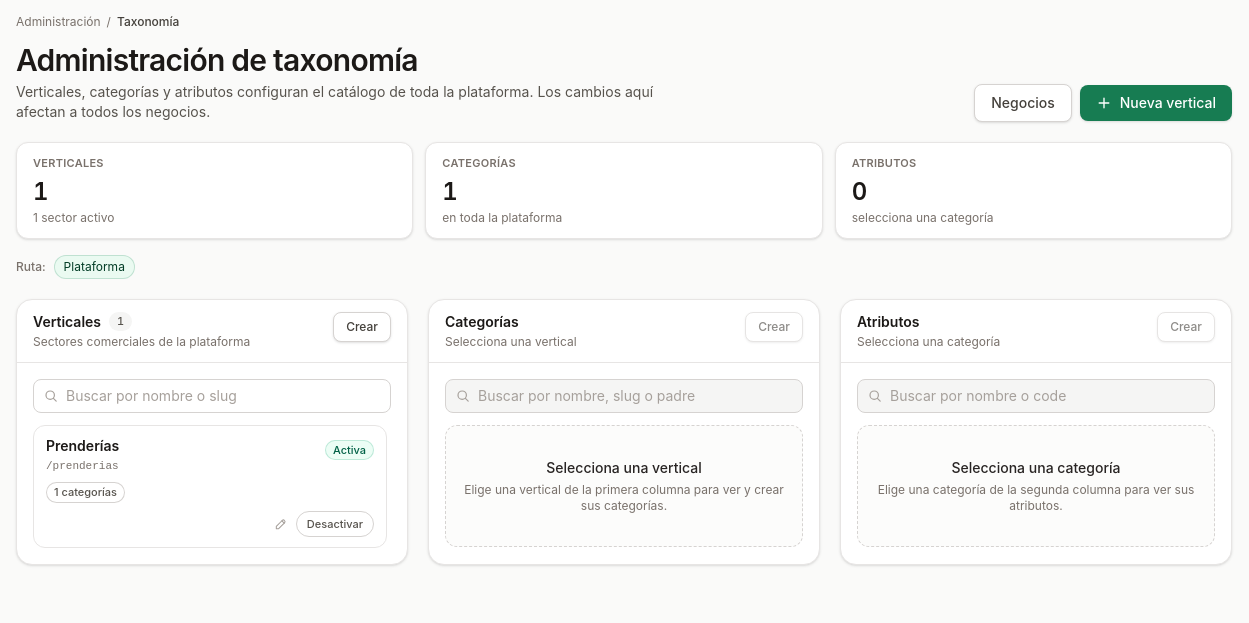
Scenario: Panel de taxonomía (UI) › navega vertical → categoría → atributos y muestra las opciones ENUM
Expected: the heading "Administración de taxonomía" is shown, top-left (16, 42), bottom-right (418, 78)
Expected: the text "Prenderías" is shown, top-left (46, 436), bottom-right (119, 456)
Click the button "Prenderías /prenderias Activa 1 categorías Desactivar" at (83, 445), box top-left (33, 424), bottom-right (387, 548)
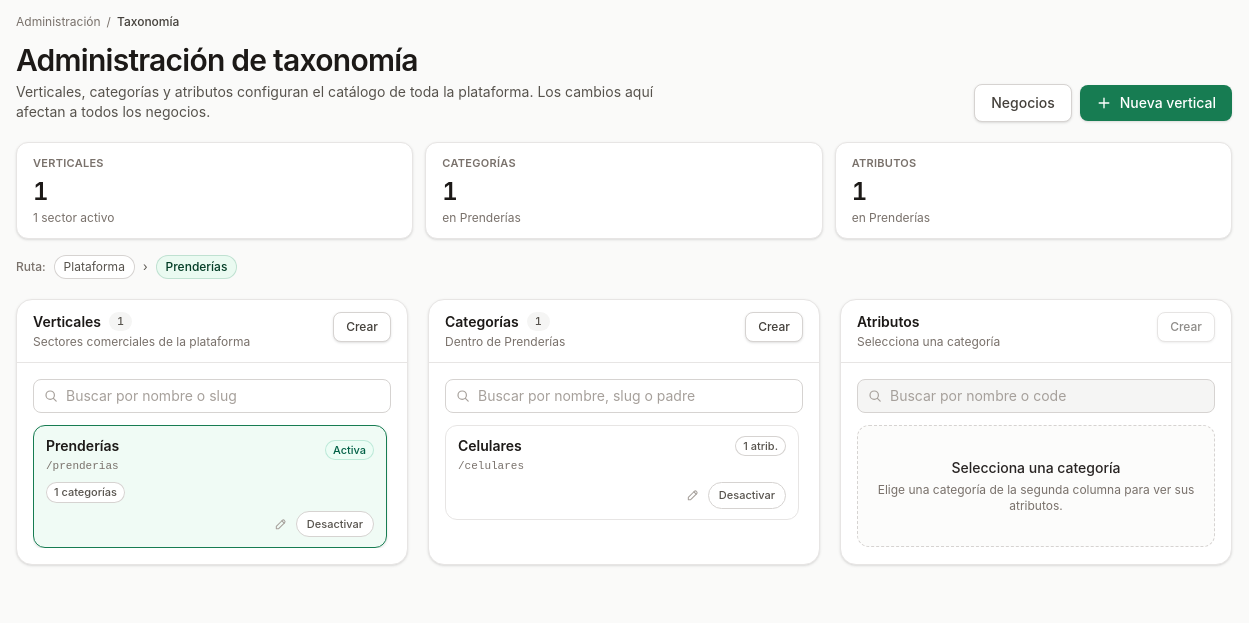
Click the button "Celulares /celulares 1 atrib. Desactivar" at (490, 445), box top-left (445, 424), bottom-right (799, 520)
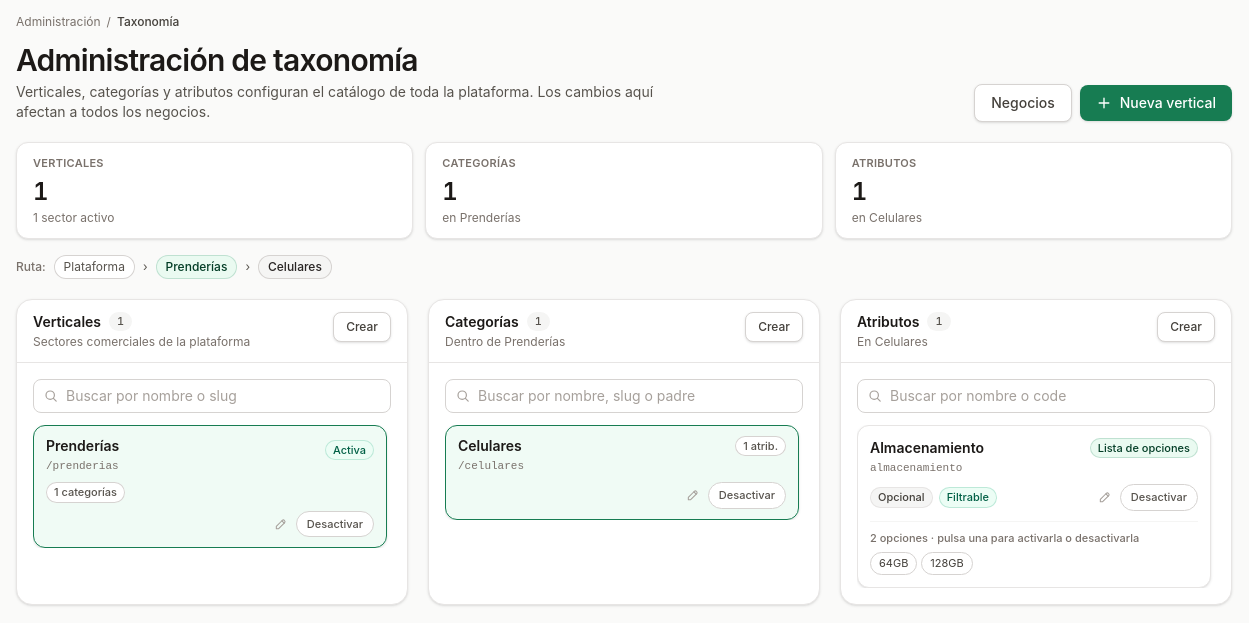
Expected: the text "Almacenamiento" is shown, top-left (870, 438), bottom-right (984, 458)
Expected: the button "64GB" is shown, top-left (870, 552), bottom-right (917, 574)
Expected: the button "128GB" is shown, top-left (921, 552), bottom-right (973, 574)
